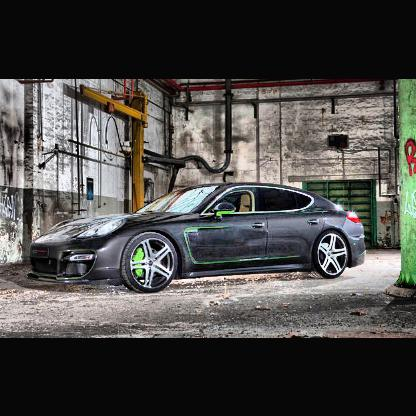Porsche Panamera Sedan 2012: (30, 182, 369, 294)
